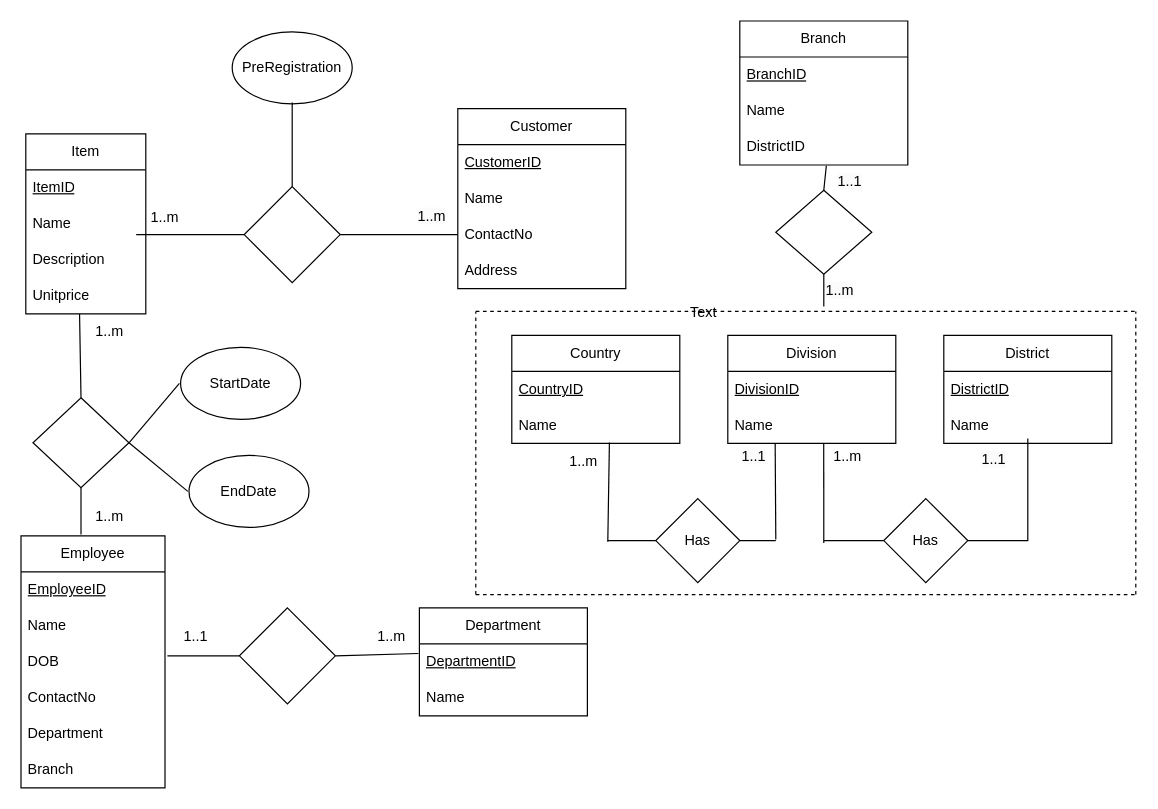
Some shapes in this 1158 by 809 pixel diagram are drawn without their labels. Each missing label, with the centre of its shape:
"Buys" belongs at point 291,234.
"Located" belongs at point 823,231.
"Rents" belongs at point 80,442.
"Works" belongs at point 286,655.
